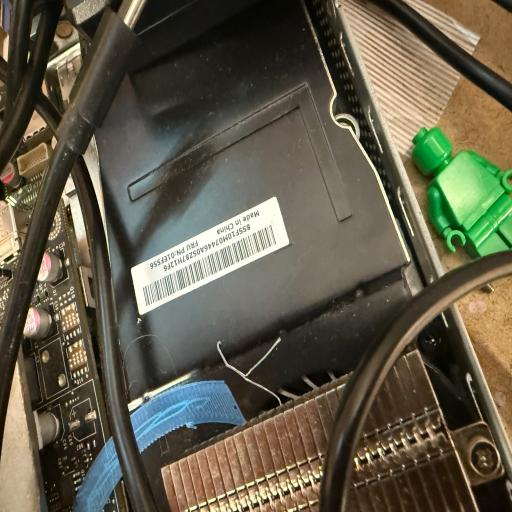Lego-Dude: (411, 127, 512, 258)
